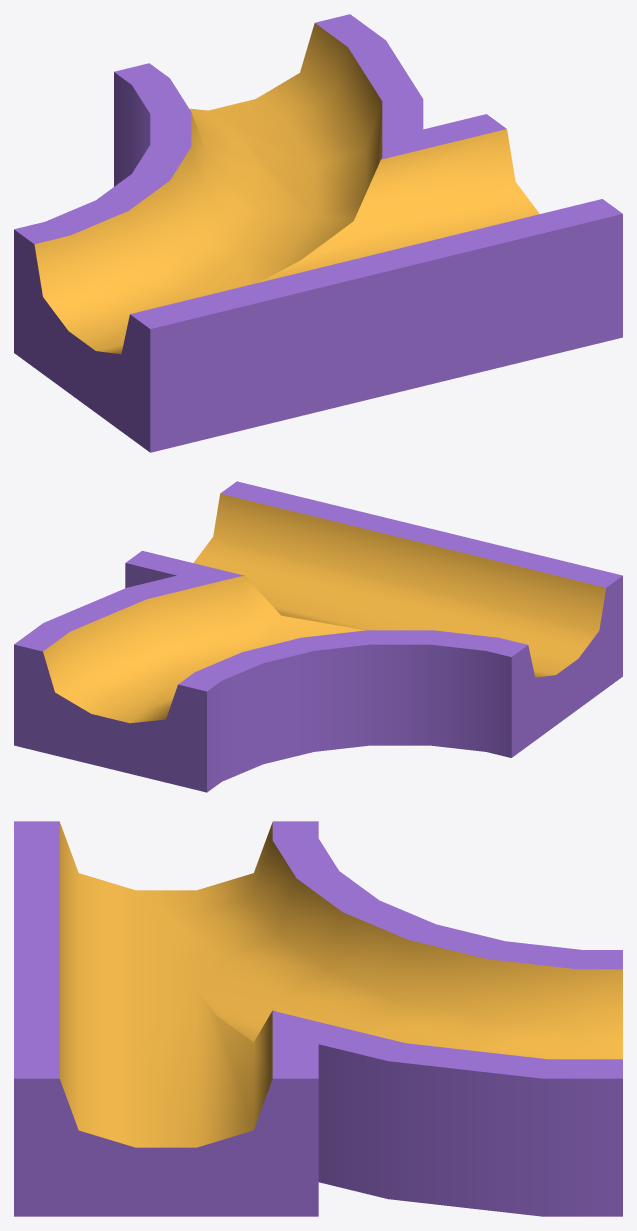
The model's file is split-left.glb.
3 views of the same model, one above another, from view 1: azimuth 30°, elevation 25°; view 2: azimuth 150°, elevation 25°; view 3: azimuth 270°, elevation 25° (orthographic). The views are drawn at different scales.
Visible parts, largest first — view 1: split-left; view 2: split-left; view 3: split-left.
Boxes of the visible parts, x1,y1,x2,y2 form: split-left: [14, 14, 622, 452]; split-left: [14, 481, 622, 792]; split-left: [14, 821, 622, 1216].
Size of the model in its own units: 2 by 0.5001 by 2.
Materials: 1 (1 with a texture image).
